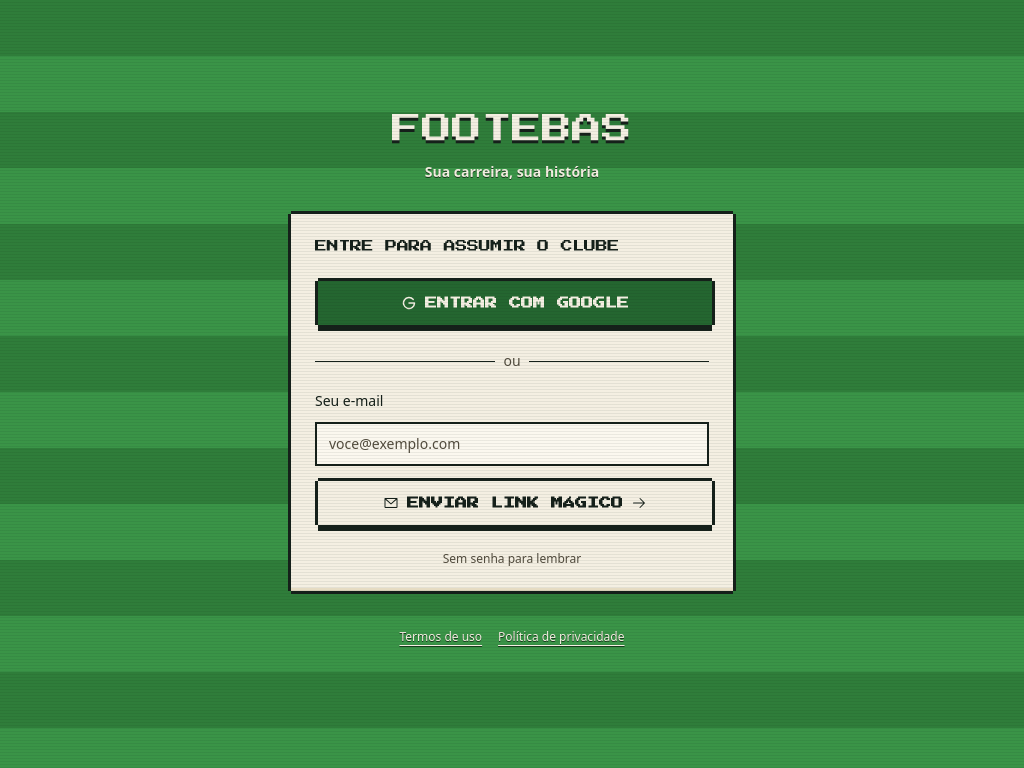
Test: entrada com conta › mostra o erro legível quando o Google falha
Click the button "Entrar com Google": (515, 303) [318, 281, 712, 325]
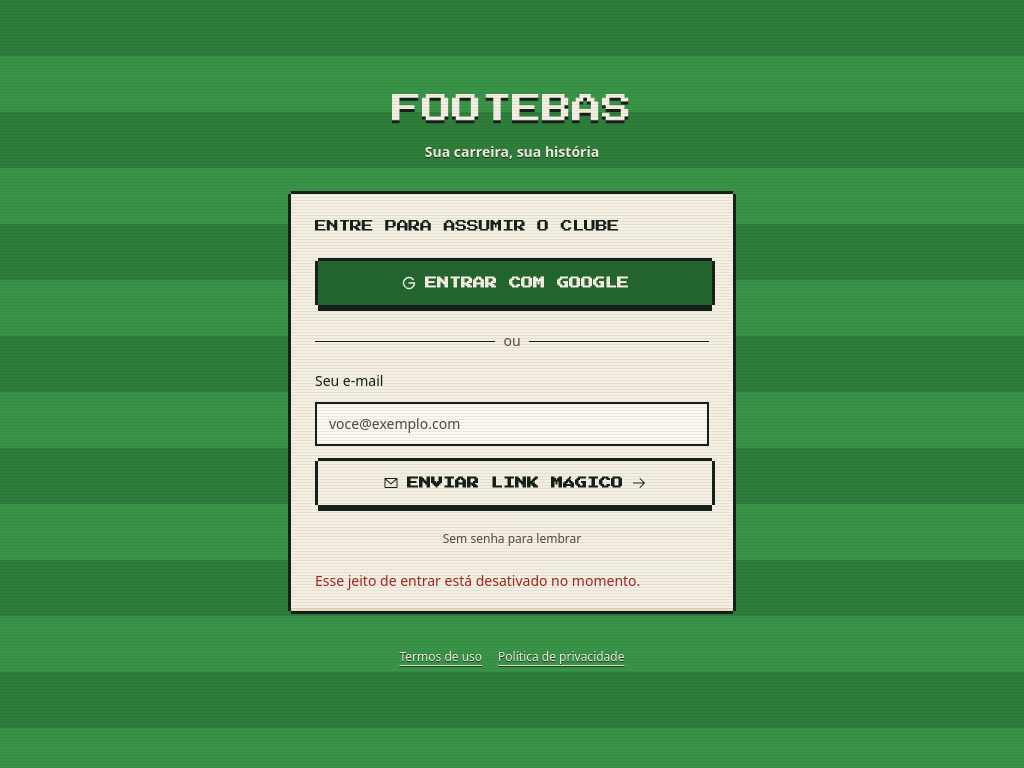
Expected: the message shows "desativado", [315, 571, 640, 590]
